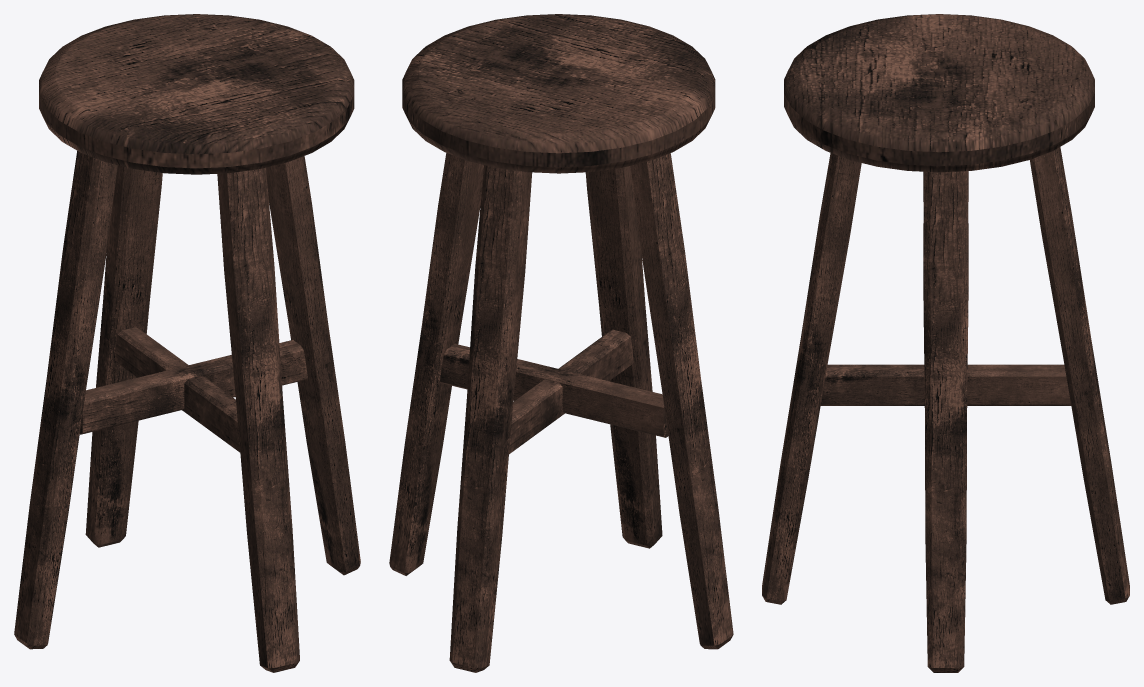
Rendered from wooden stool circle.FBX.
3 views of the same model, side by side, from view 1: azimuth 30°, elevation 25°; view 2: azimuth 150°, elevation 25°; view 3: azimuth 270°, elevation 25° (orthographic).
Visible parts, largest first — view 1: Cylinder004; view 2: Cylinder004; view 3: Cylinder004.
Part boxes in pixels (x1,y1,x2,y2): Cylinder004: (14,14,360,672); Cylinder004: (389,14,733,672); Cylinder004: (762,14,1129,672).
Bounding box in the file's own units: 21.02 × 32.11 × 20.33.
Materials: 1 (1 with a texture image).
